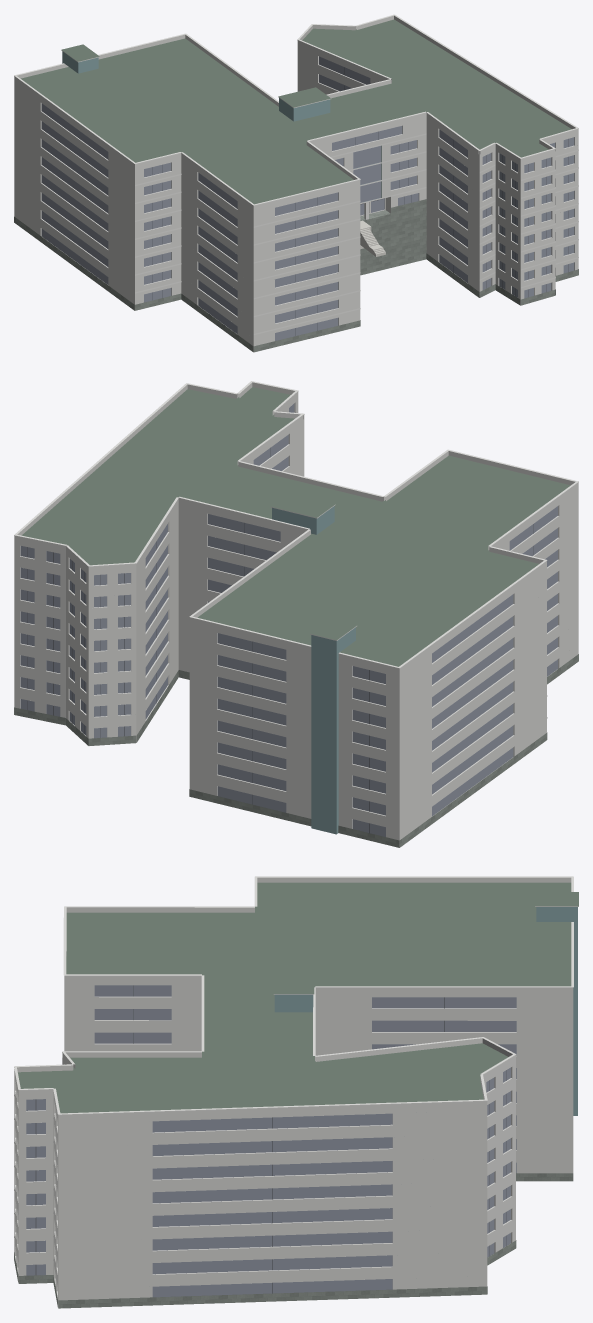
The picture shows the model from 3 angles, top to bottom: view 1: azimuth 30°, elevation 25°; view 2: azimuth 150°, elevation 25°; view 3: azimuth 270°, elevation 25°; orthographic projection. The views are drawn at different scales.
Visible parts, largest first — view 1: vet85__wall, vet85__roof, vet85__glass, vet85__base, vet85__trim, vet85__parapet, vet85__wall2, vet85__frame, vet85__entranceStair; view 2: vet85__wall, vet85__roof, vet85__glass, vet85__parapet, vet85__wall2, vet85__trim, vet85__base, vet85__frame; view 3: vet85__wall, vet85__roof, vet85__glass, vet85__parapet, vet85__trim, vet85__base, vet85__wall2.
Boxes of the visible parts, x1=… form: vet85__wall: x1=14, y1=44, x2=578, y2=351; vet85__roof: x1=21, y1=19, x2=571, y2=274; vet85__glass: x1=41, y1=56, x2=574, y2=340; vet85__base: x1=14, y1=199, x2=578, y2=352; vet85__trim: x1=14, y1=14, x2=578, y2=334; vet85__parapet: x1=14, y1=15, x2=578, y2=208; vet85__wall2: x1=62, y1=51, x2=381, y2=202; vet85__frame: x1=152, y1=67, x2=568, y2=335; vet85__entranceStair: x1=360, y1=220, x2=385, y2=256; vet85__wall: x1=14, y1=395, x2=578, y2=847; vet85__roof: x1=22, y1=387, x2=570, y2=666; vet85__glass: x1=20, y1=403, x2=557, y2=836; vet85__parapet: x1=14, y1=382, x2=578, y2=672; vet85__wall2: x1=272, y1=506, x2=355, y2=834; vet85__trim: x1=14, y1=381, x2=578, y2=718; vet85__base: x1=14, y1=654, x2=578, y2=847; vet85__frame: x1=27, y1=447, x2=533, y2=833; vet85__wall: x1=14, y1=980, x2=573, y2=1306; vet85__roof: x1=18, y1=882, x2=578, y2=1113; vet85__glass: x1=26, y1=985, x2=516, y2=1297; vet85__parapet: x1=14, y1=877, x2=573, y2=1119; vet85__trim: x1=14, y1=876, x2=578, y2=1284; vet85__base: x1=14, y1=1173, x2=573, y2=1308; vet85__wall2: x1=274, y1=907, x2=577, y2=1115.
Size of the model in its own units: 75.7 by 31.17 by 75.88.
11 materials, 1 textured.
